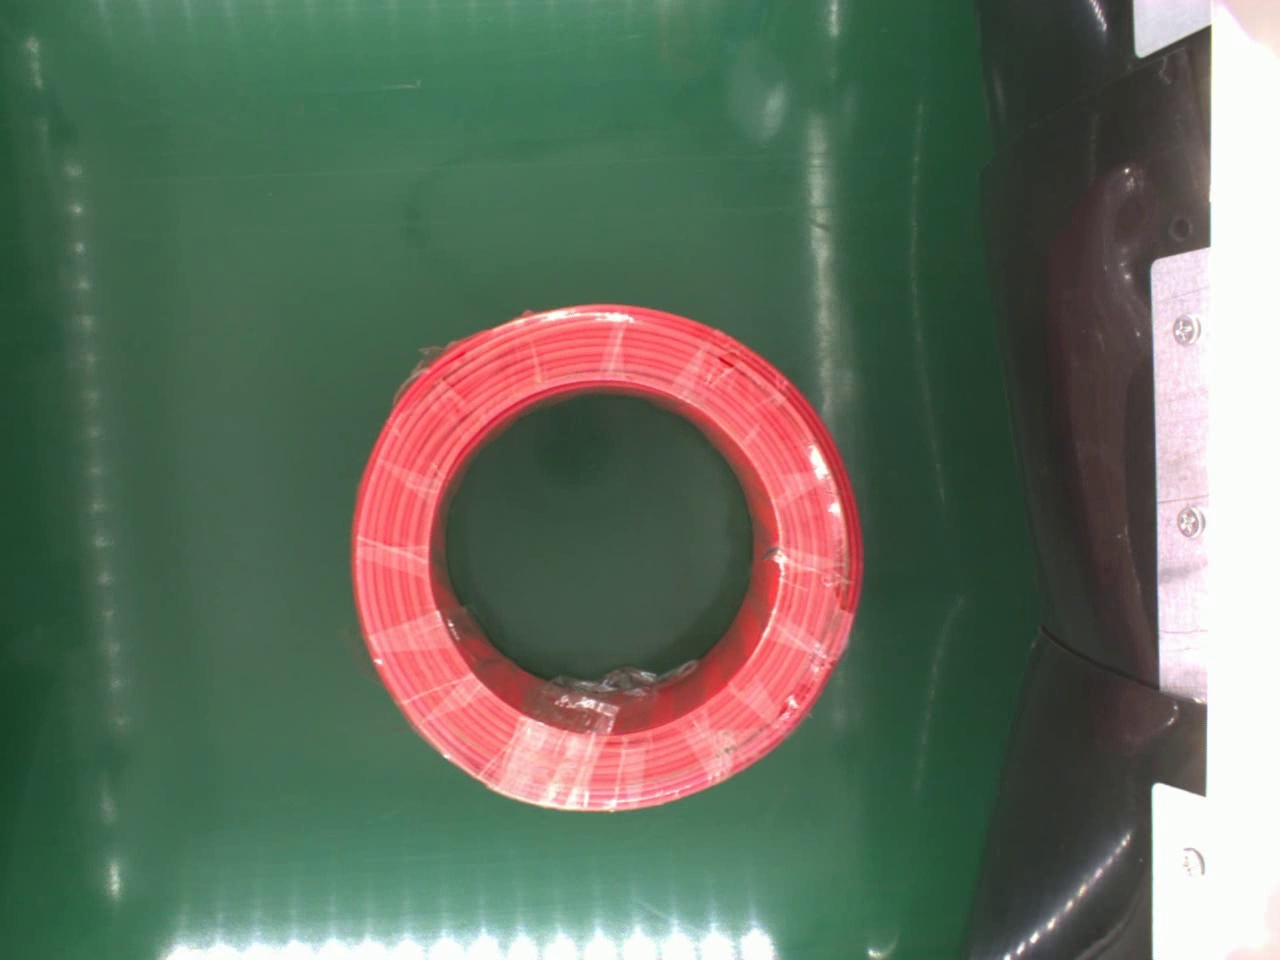red: (345, 305, 867, 819)
